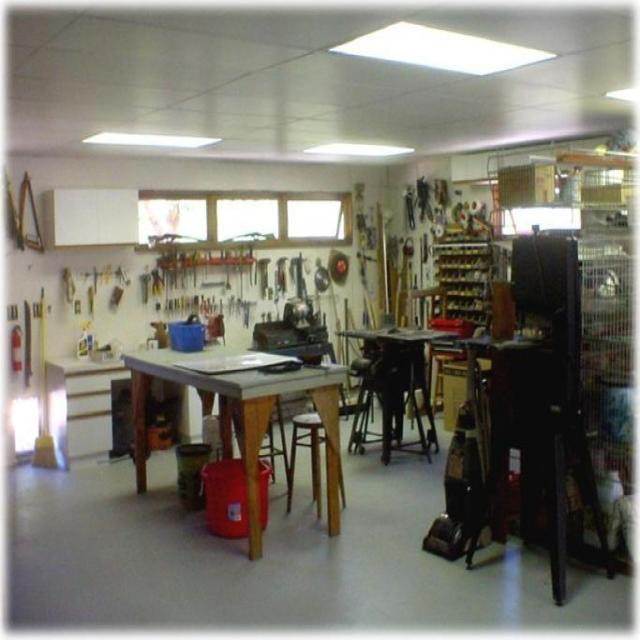cupboard: (43, 186, 139, 248)
pots: (200, 455, 272, 537), (174, 441, 212, 510), (167, 320, 205, 351)
shelves: (432, 236, 494, 326)
table: (121, 342, 349, 560), (334, 325, 458, 465)
windows: (137, 195, 208, 247), (215, 195, 280, 243), (285, 196, 346, 242)
